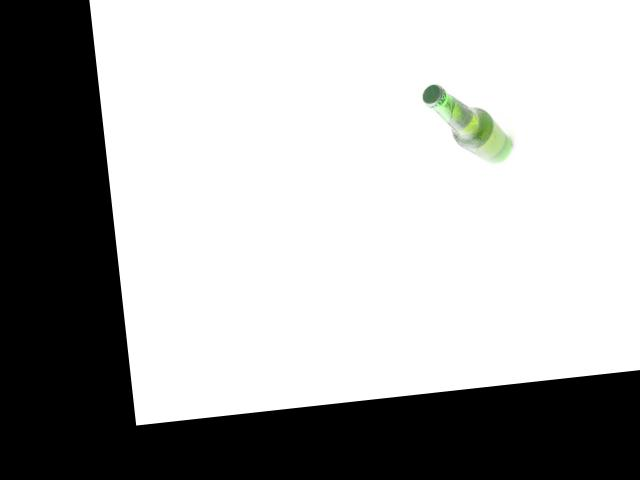beer: (421, 75, 514, 170)
